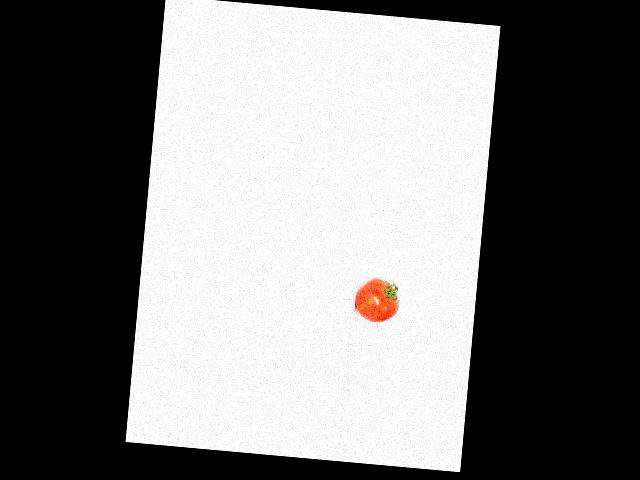tomato: (353, 276, 401, 324)
